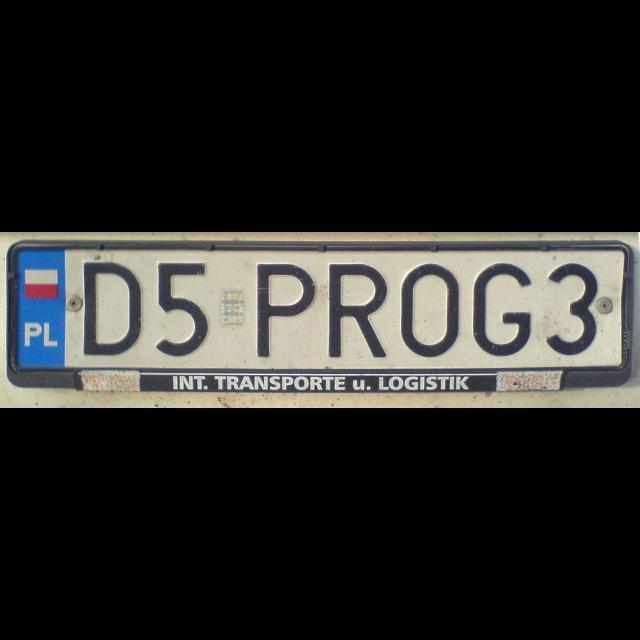license-plates: (7, 241, 633, 394)
